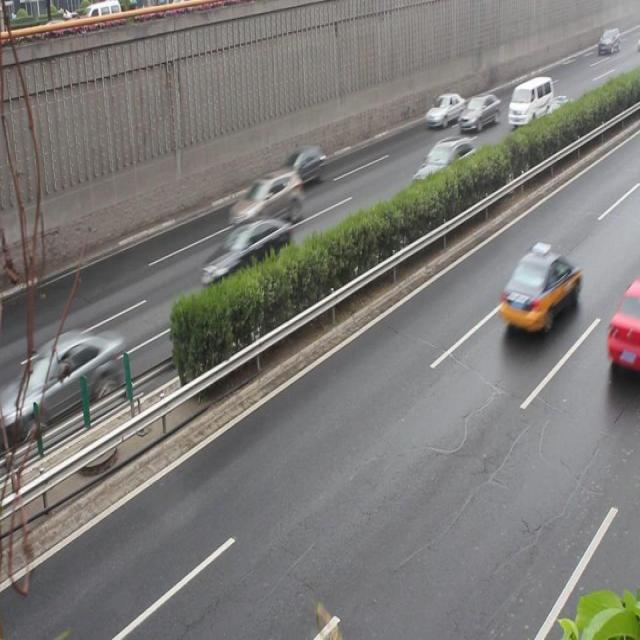car: (14, 331, 122, 413), (500, 244, 578, 334), (200, 218, 290, 292), (227, 168, 301, 230), (410, 137, 477, 194), (603, 279, 640, 373), (274, 144, 324, 188), (422, 92, 464, 130), (458, 94, 500, 130), (536, 95, 574, 131)
truck: (505, 75, 552, 124)
